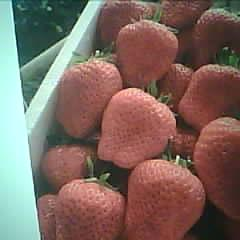straw-ripe: (125, 159, 205, 240), (99, 88, 174, 168), (118, 22, 178, 88), (56, 181, 123, 240)
